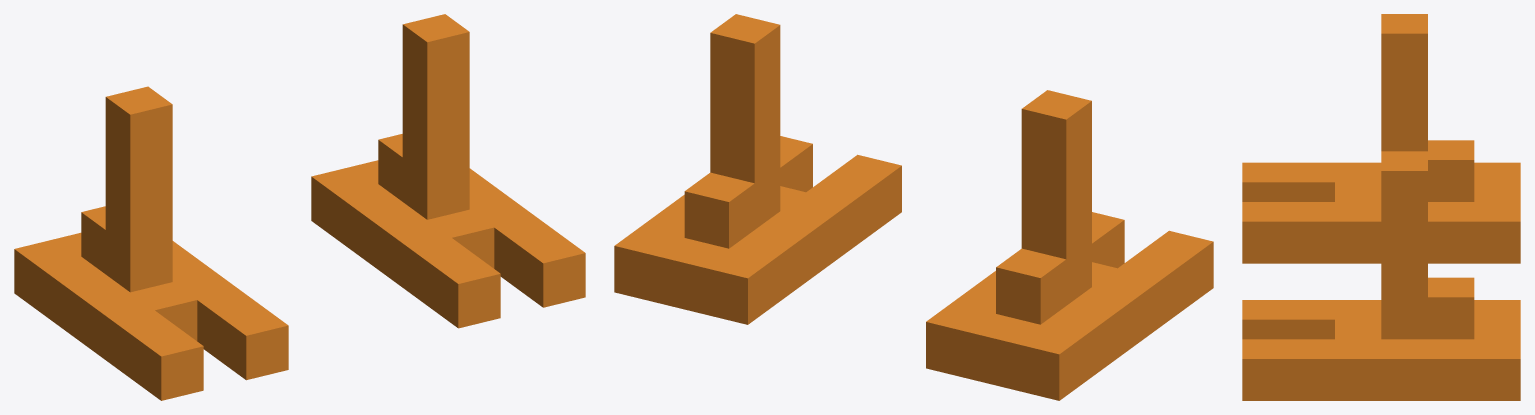
File: PolloYonpapitas.obj
3 renders of one model, left to right at view 1: azimuth 30°, elevation 25°; view 2: azimuth 150°, elevation 25°; view 3: azimuth 270°, elevation 25°, orthographic. The views are drawn at different scales.
Bounding box in the file's own units: 1 × 0.5 × 0.6.
Materials: 1 (1 with a texture image).
